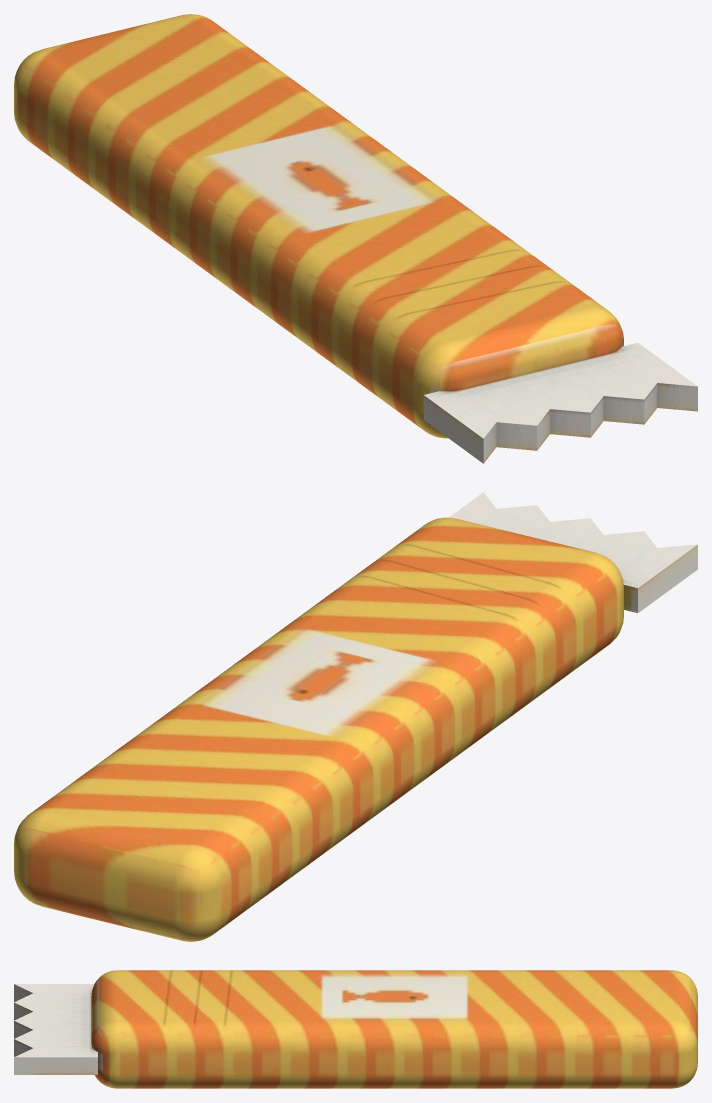
File: churu.glb
The picture shows the model from 3 angles, top to bottom: view 1: azimuth 30°, elevation 25°; view 2: azimuth 150°, elevation 25°; view 3: azimuth 270°, elevation 25°; orthographic projection. The views are drawn at different scales.
Visible parts, largest first — view 1: churu; view 2: churu; view 3: churu.
Boxes of the visible parts, left/top/right/bottom form: churu: left=14, top=14, right=697, bottom=463; churu: left=14, top=492, right=697, bottom=941; churu: left=14, top=970, right=697, bottom=1088.
Size of the model in its own units: 0.0538 by 0.0224 by 0.212.
Materials: 1 (1 with a texture image).
